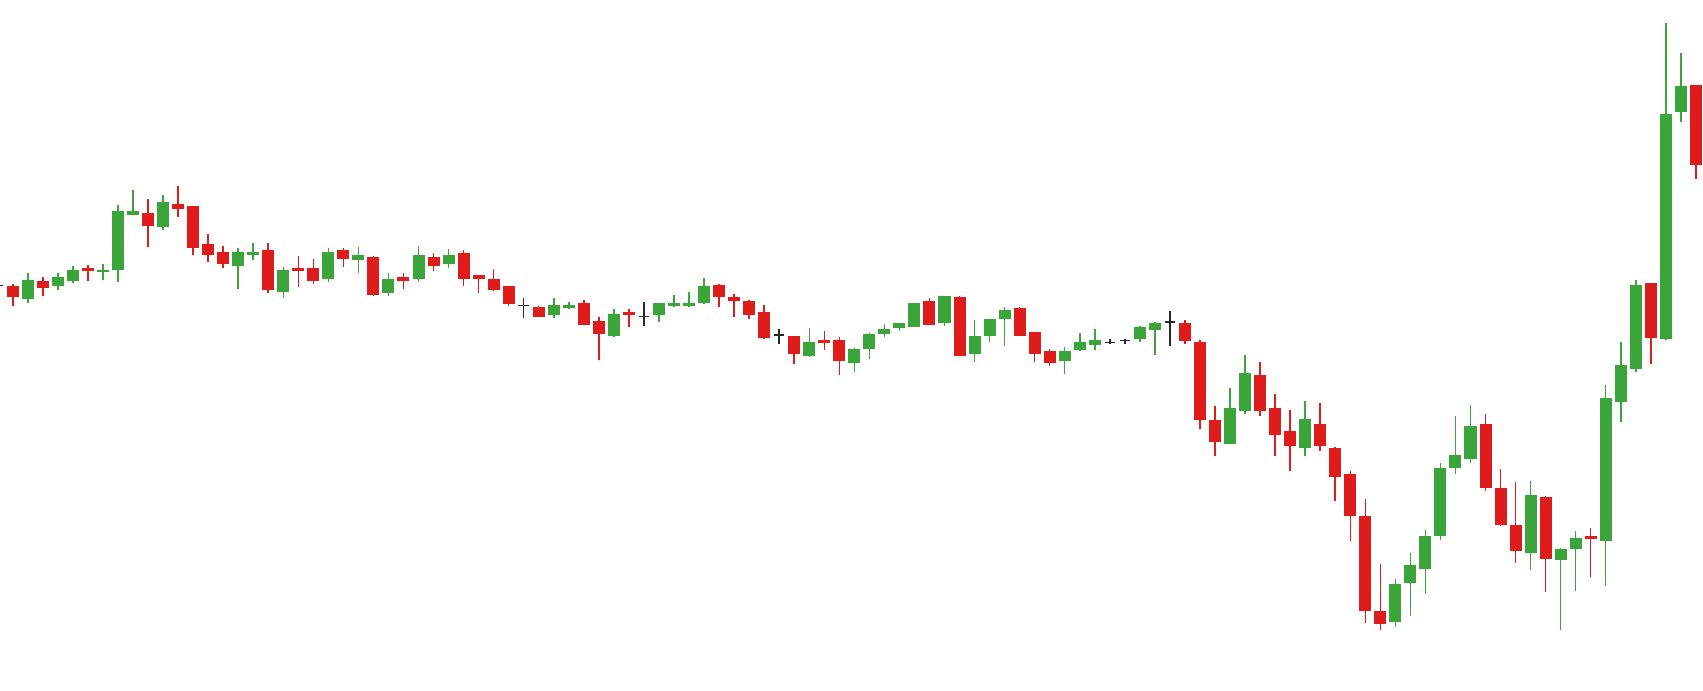buy: (1415, 487, 1570, 637)
